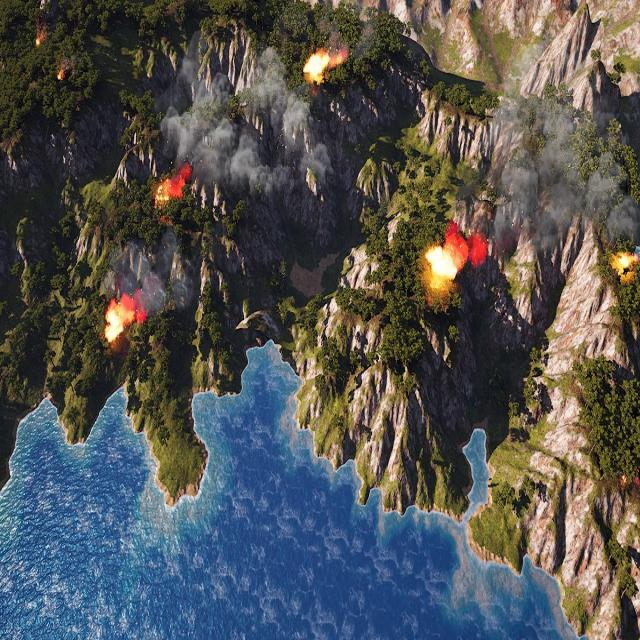fire: (427, 241, 465, 288), (303, 51, 350, 84), (155, 168, 189, 208), (104, 299, 132, 343), (614, 251, 636, 271), (621, 474, 636, 488), (33, 28, 41, 46), (58, 69, 66, 81)
smoke: (443, 83, 636, 250), (157, 39, 310, 194), (114, 231, 197, 316)
